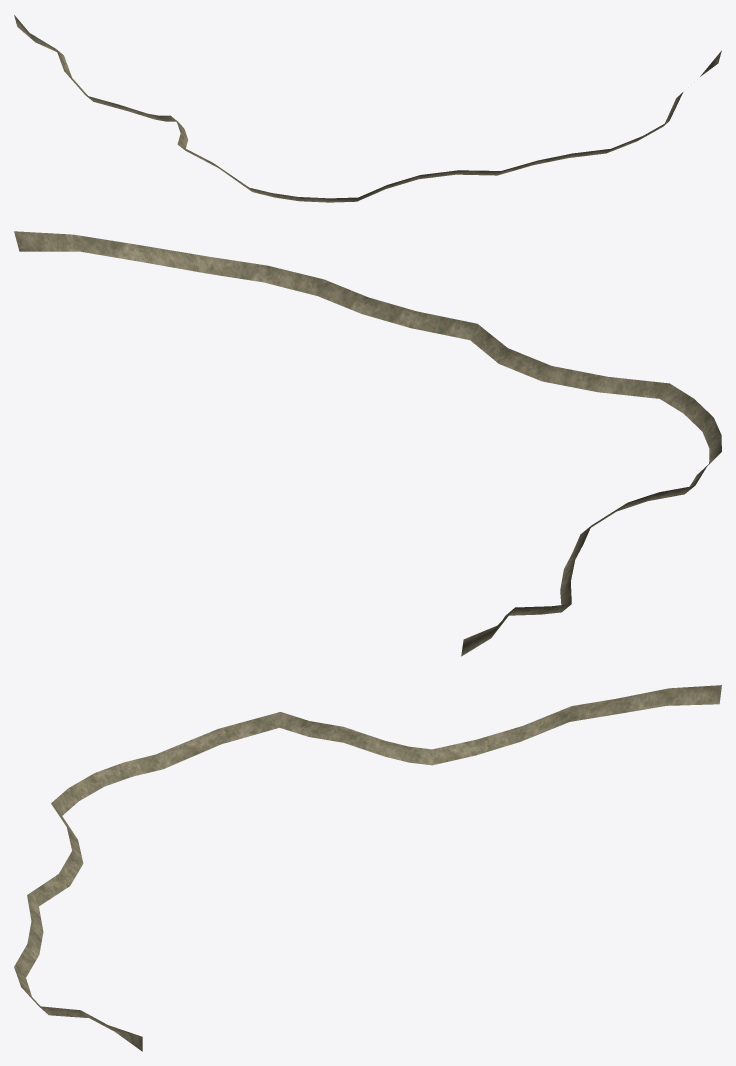
The model's file is EKH_JAIL_PS_JA_BASE_TRIM83736.fbx.
3 renders of one model, top to bottom at view 1: azimuth 30°, elevation 25°; view 2: azimuth 150°, elevation 25°; view 3: azimuth 270°, elevation 25°, orthographic. The views are drawn at different scales.
Parts seen in each view (by area): view 1: EKH_JAIL_PS_JA_BASE_TRIM83736; view 2: EKH_JAIL_PS_JA_BASE_TRIM83736; view 3: EKH_JAIL_PS_JA_BASE_TRIM83736.
Part boxes in pixels (box(x1,y1,x2,y2)): EKH_JAIL_PS_JA_BASE_TRIM83736: box(14, 15, 721, 202); EKH_JAIL_PS_JA_BASE_TRIM83736: box(14, 231, 721, 656); EKH_JAIL_PS_JA_BASE_TRIM83736: box(14, 685, 721, 1051).
Size of the model in its own units: 310532 by 24205 by 269406.
1 material, 1 textured.
